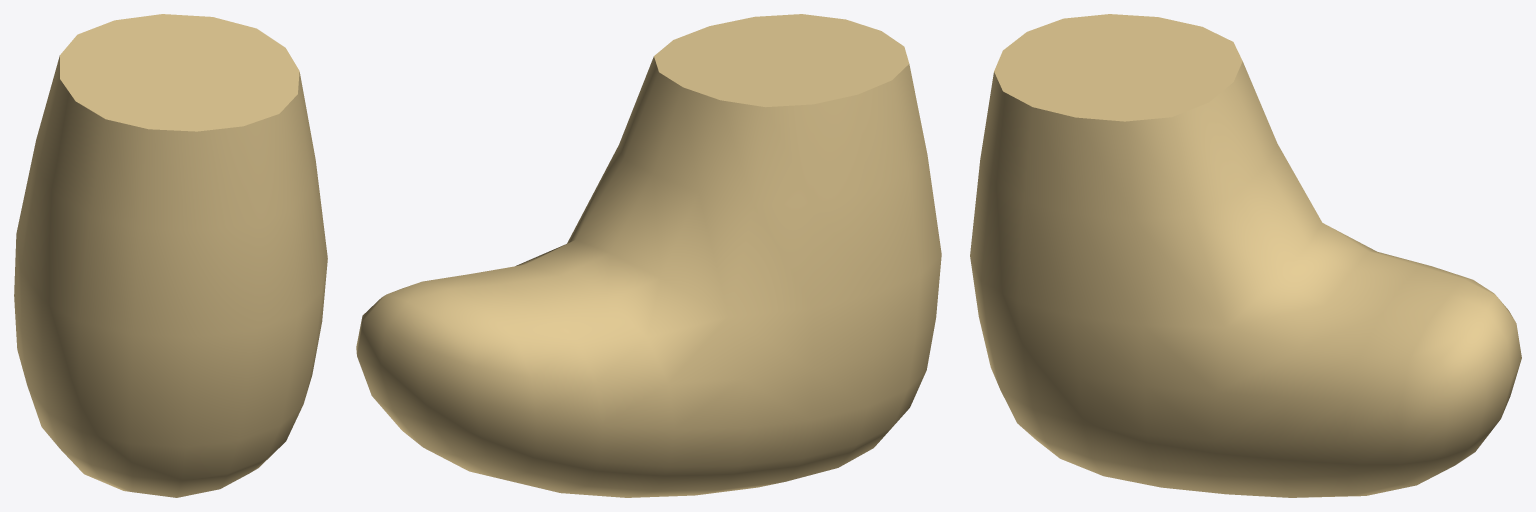
The model's file is cake_feet.fbx.
3 renders of one model, left to right at view 1: azimuth 30°, elevation 25°; view 2: azimuth 150°, elevation 25°; view 3: azimuth 270°, elevation 25°, orthographic. The views are drawn at different scales.
Visible parts, largest first — view 1: polySurface7; view 2: polySurface7; view 3: polySurface7.
Part boxes in pixels (x1=…): polySurface7: x1=14, y1=14, x2=327, y2=497; polySurface7: x1=356, y1=14, x2=941, y2=497; polySurface7: x1=970, y1=14, x2=1521, y2=497.
Bounding box in the file's own units: 0.683 × 0.6637 × 0.8299.
